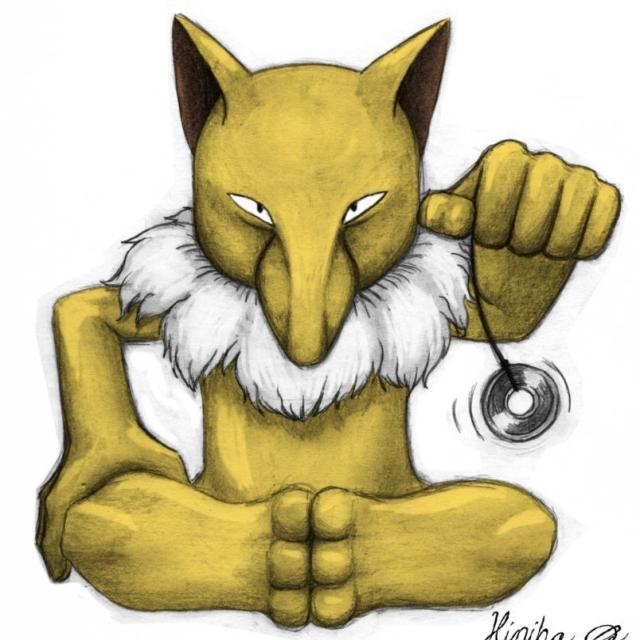Hypno: (105, 20, 568, 609)
